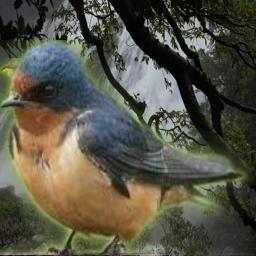Cuckoo: (0, 58, 92, 125)
Swallow: (0, 40, 256, 255)
